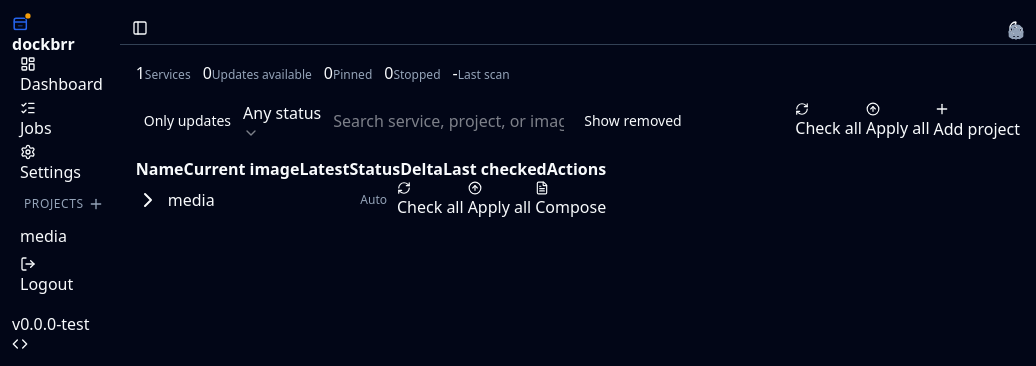
Test: Sidebar › clicking a project navigates to its page
Click the link with aria-label "media,": click(43, 236) [20,225,67,247]
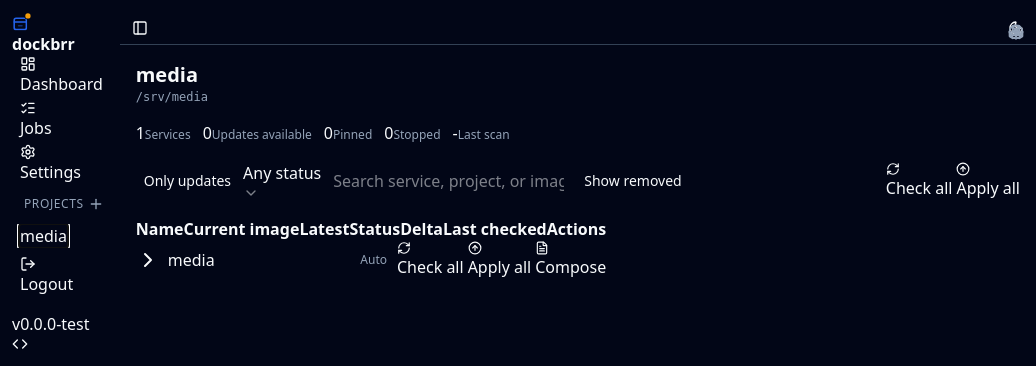
Expected: the heading "media" is shown, [136,61,198,88]
